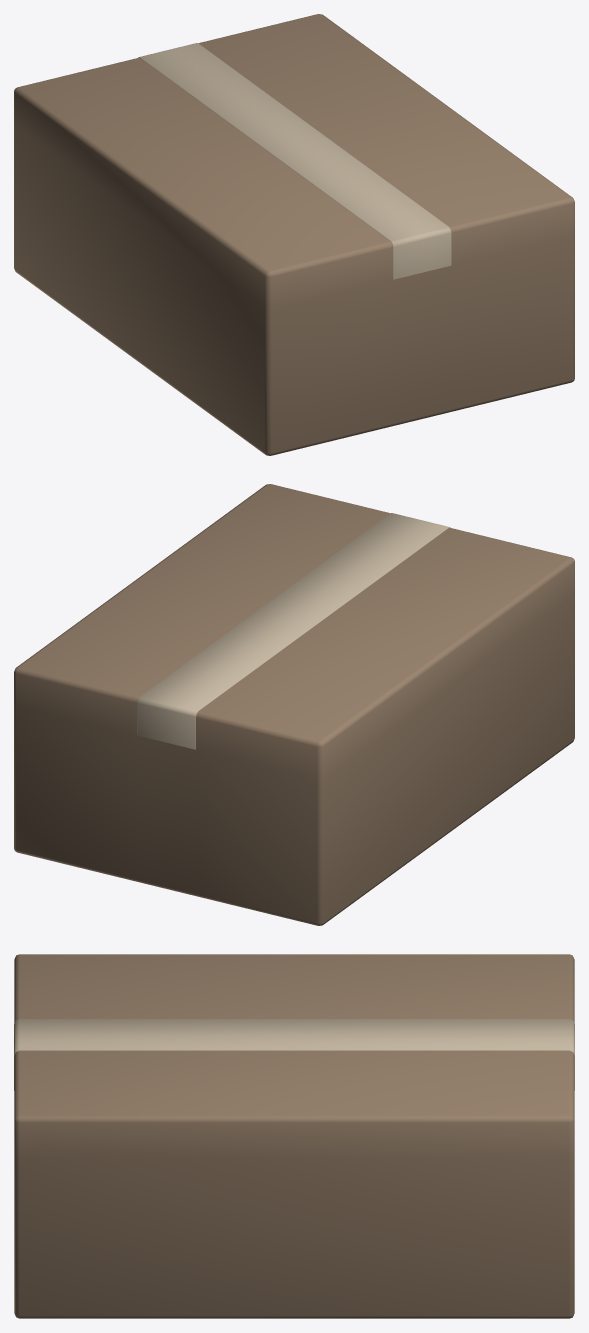
File: package.fbx
3 views of the same model, one above another, from view 1: azimuth 30°, elevation 25°; view 2: azimuth 150°, elevation 25°; view 3: azimuth 270°, elevation 25° (orthographic). The views are drawn at different scales.
Parts seen in each view (by area): view 1: package; view 2: package; view 3: package.
Boxes of the visible parts, box(x1,y1,x2,y2) form: package: box(14, 14, 574, 455); package: box(14, 484, 574, 925); package: box(14, 954, 574, 1318).
Bounding box in the file's own units: 35 × 20.04 × 50.07.
